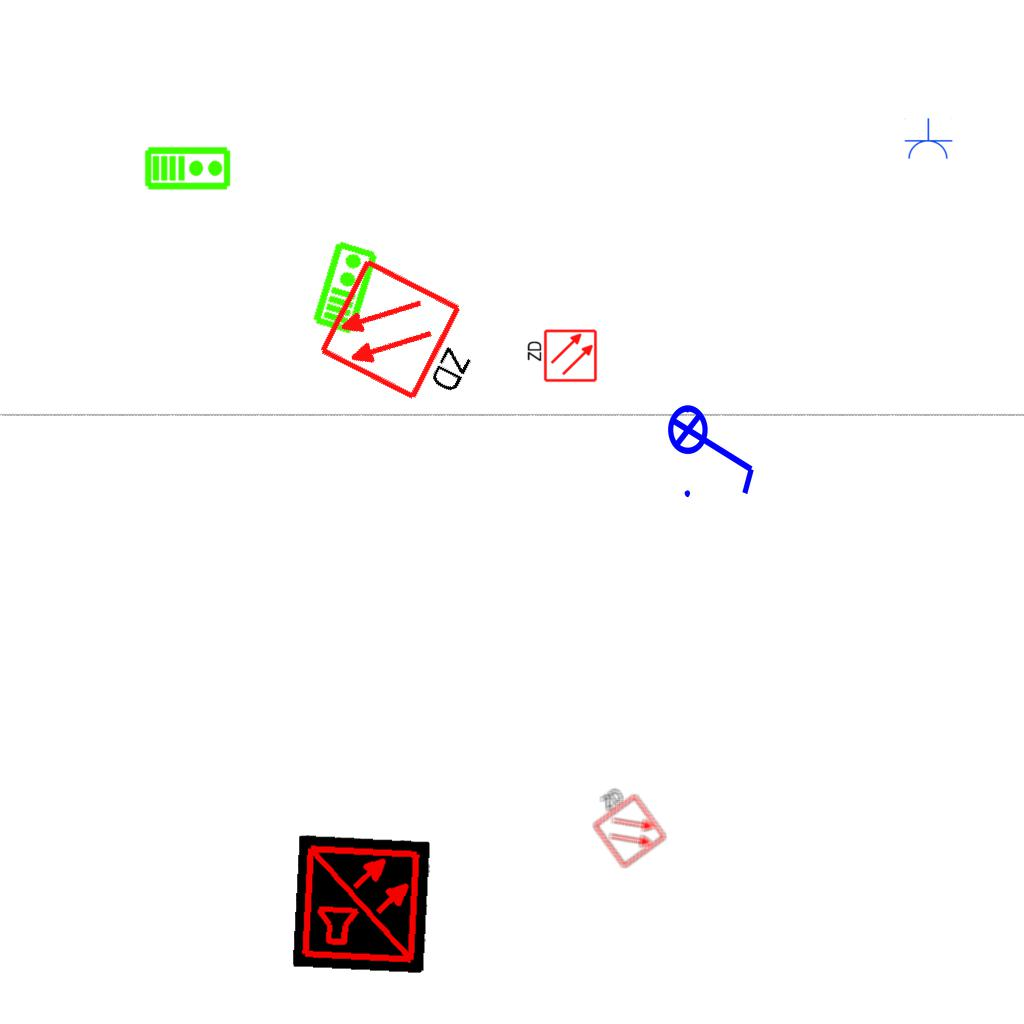Ausschalter_beleuchtet: (666, 391, 762, 503)
Gegensprechanlage_mit_Video: (309, 238, 380, 336), (144, 144, 232, 191)
OKW_Multisensormelder_(Kombination_optischer_Rauch-Kahlenmonoxid_Waerme-Melder): (292, 834, 432, 974)
Schukosteckdose_einfach: (903, 118, 953, 161)
ZD_Melder_in_Zwischendecke_mit_Revisionsoeffnung_mind_40_x_40_cm: (315, 251, 501, 422), (578, 777, 669, 871), (524, 328, 598, 385)
